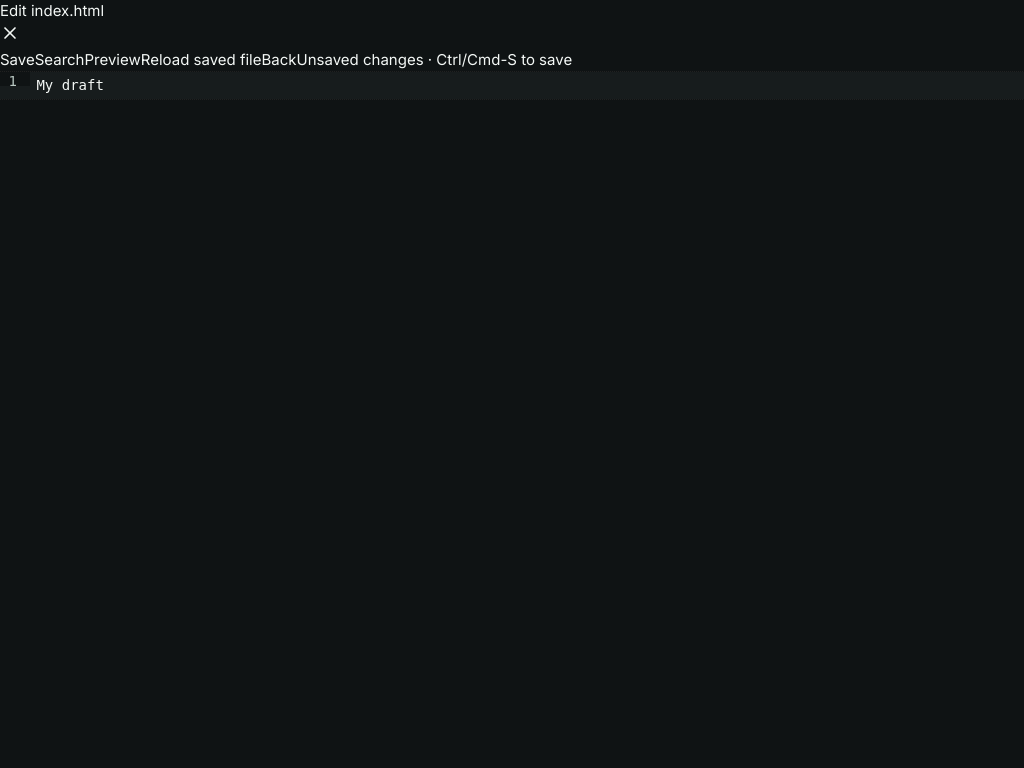
reloads the latest saved version after confirming a dirty draft
Click the button "Reload saved file" at (201, 60), box [141,49,262,72]
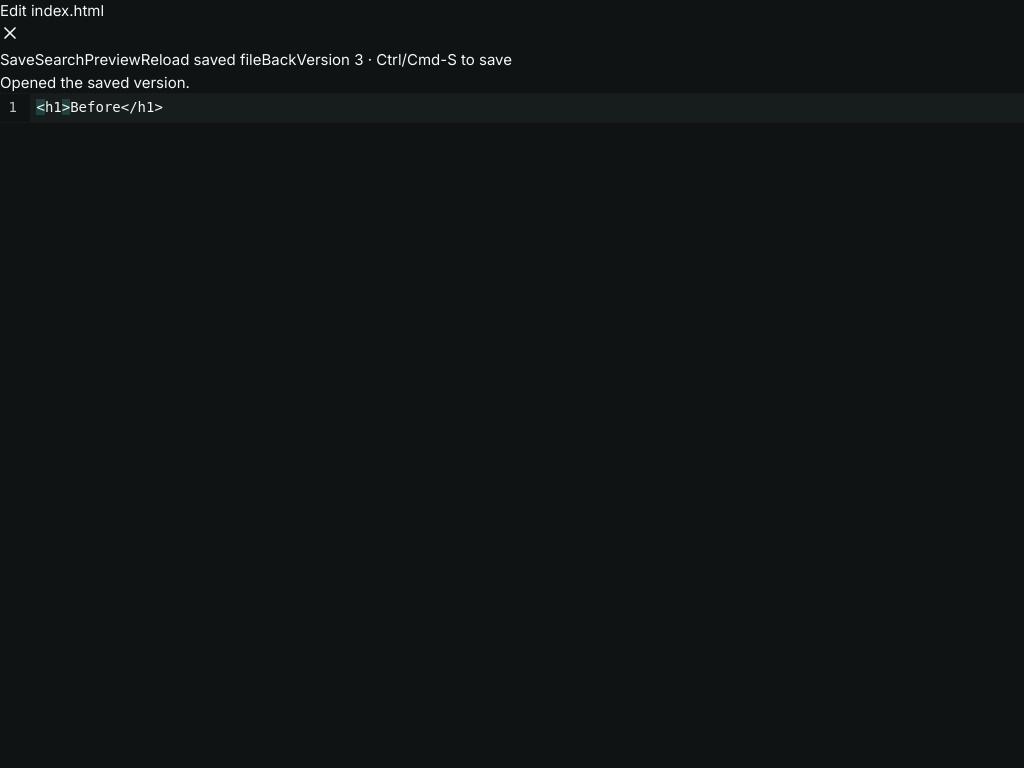
Check: the text "Opened the saved version." is shown, box [0,72,190,92]
Check: the text "Unsaved changes" is gone
